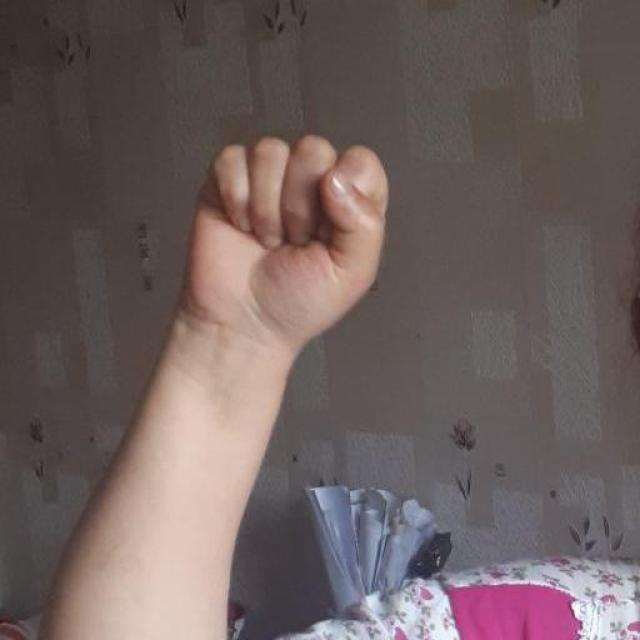hand: (178, 131, 388, 354)
